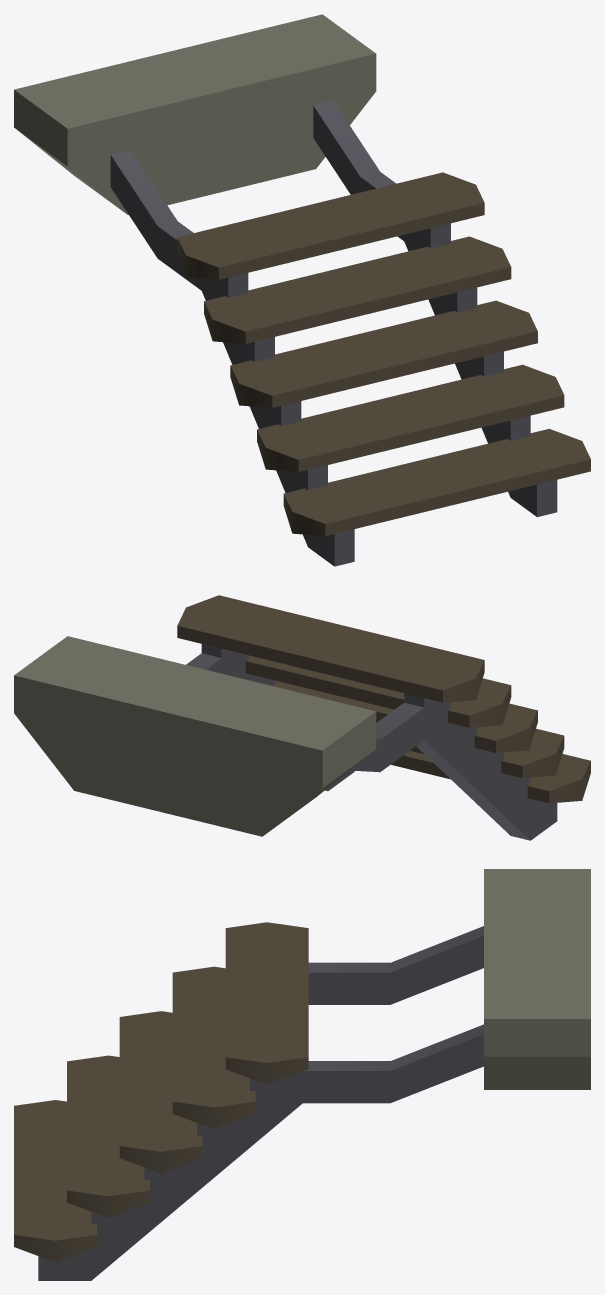
File: LPSciFi_SingleMetalStairsWithMount.fbx
The picture shows the model from 3 angles, top to bottom: view 1: azimuth 30°, elevation 25°; view 2: azimuth 150°, elevation 25°; view 3: azimuth 270°, elevation 25°; orthographic projection.
Visible parts, largest first — view 1: SingleMetalStairsWithMount; view 2: SingleMetalStairsWithMount; view 3: SingleMetalStairsWithMount.
Boxes of the visible parts, bbox=[...] form: SingleMetalStairsWithMount: bbox=[14, 14, 590, 566]; SingleMetalStairsWithMount: bbox=[14, 595, 590, 840]; SingleMetalStairsWithMount: bbox=[14, 869, 590, 1280].
Size of the model in its own units: 144 by 127 by 235.
